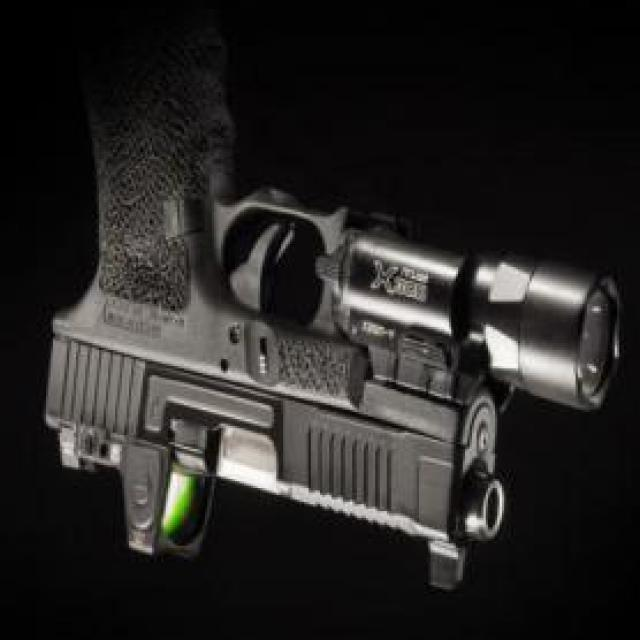pistol: (42, 0, 626, 624)
